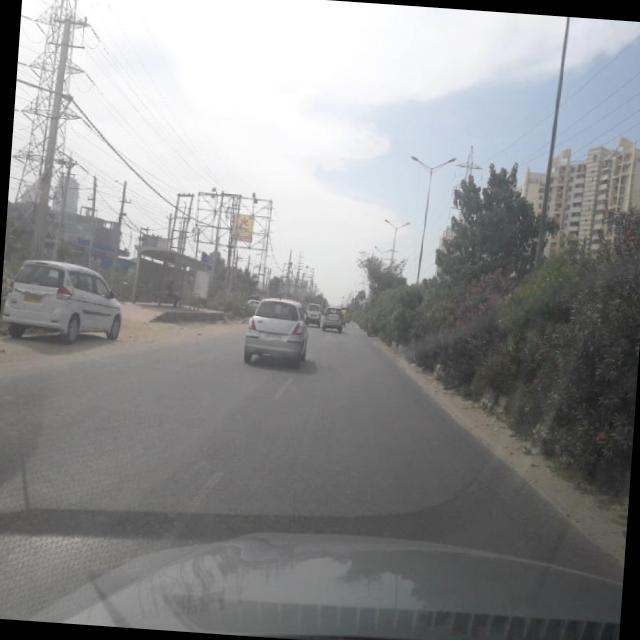crack: (0, 367, 550, 552)
